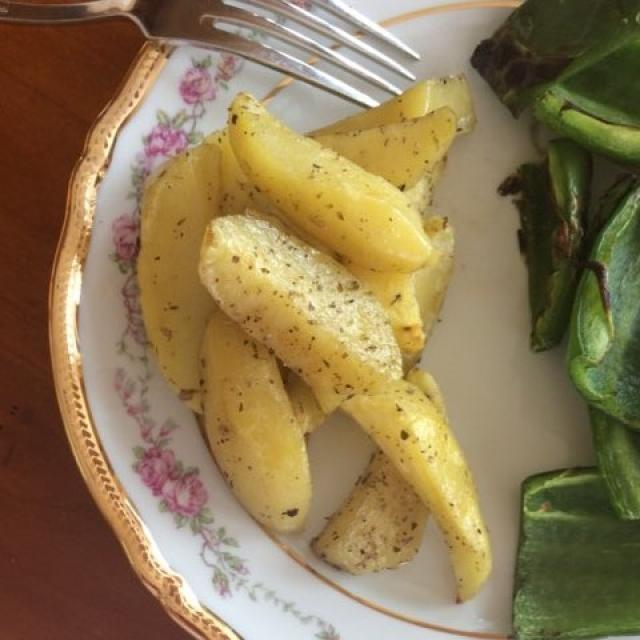fries: (135, 89, 486, 597)
